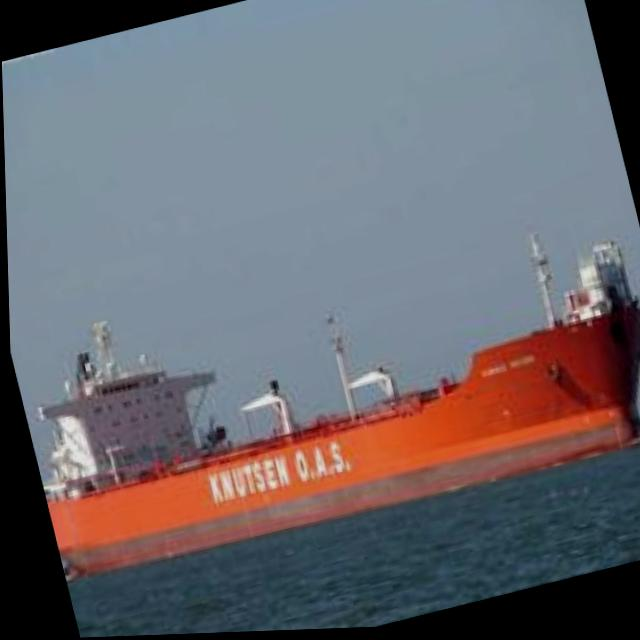ship2: (34, 226, 640, 581)
